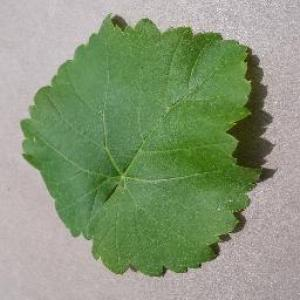Folha: (19, 12, 268, 276)
